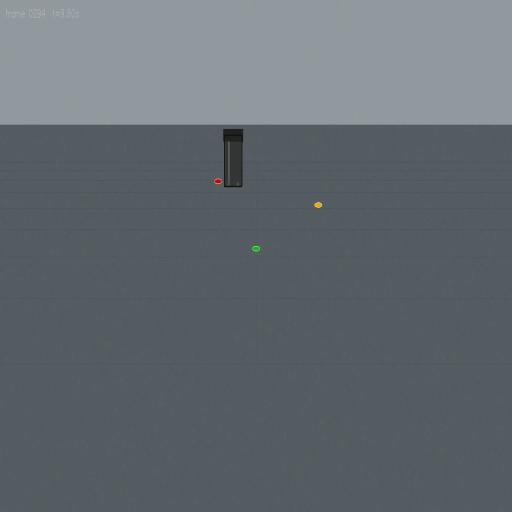bin: (223, 128, 244, 188)
